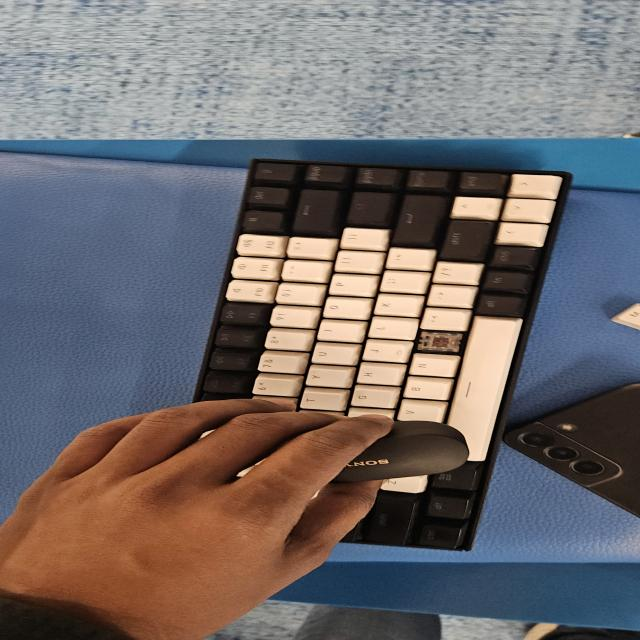C: (422, 332, 459, 352), (422, 332, 457, 352)
